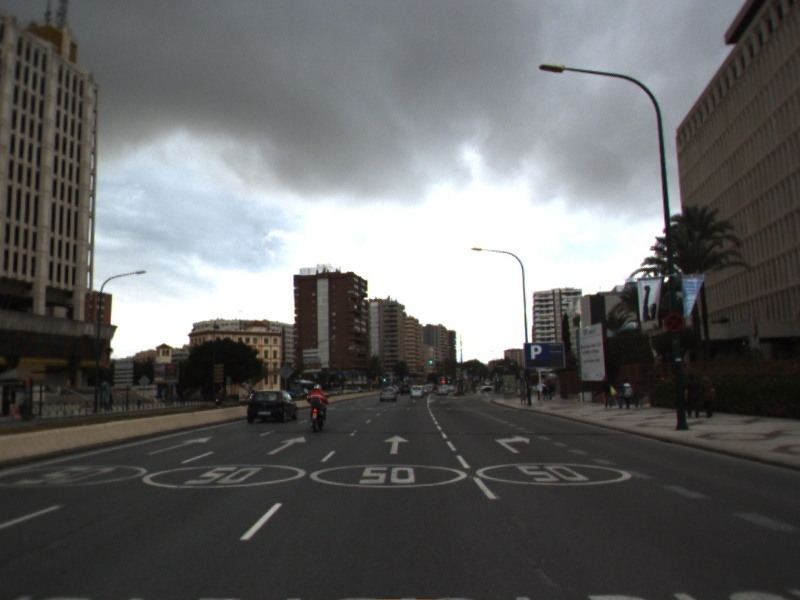RIGHT: (492, 432, 532, 455)
STRAIGHT: (143, 434, 216, 457), (265, 434, 308, 457), (381, 433, 411, 456)
